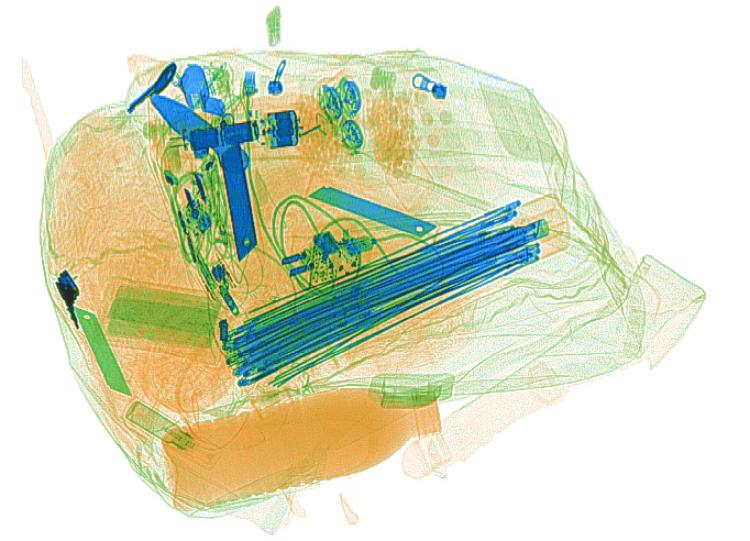battery: (188, 118, 259, 153)
knife: (307, 184, 439, 241), (71, 307, 132, 397), (219, 140, 258, 261)
